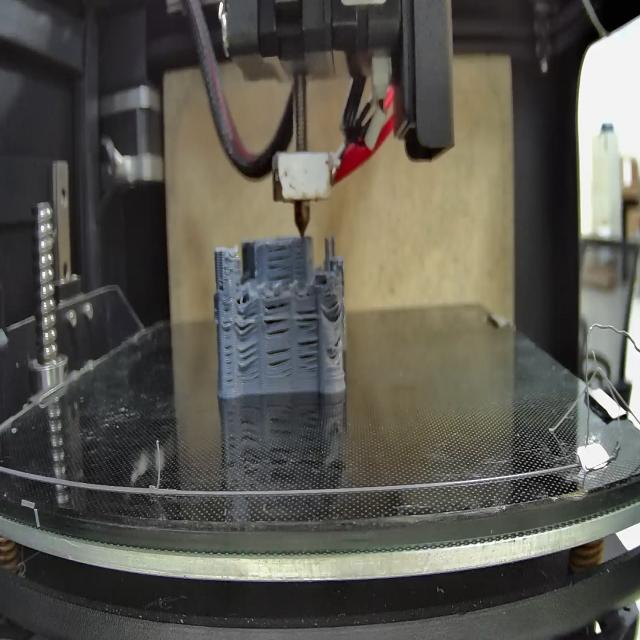cracks: (263, 301, 290, 338), (264, 246, 294, 278), (265, 342, 292, 376), (223, 305, 234, 382), (296, 338, 319, 368), (235, 310, 260, 335), (295, 305, 318, 330), (237, 343, 259, 369), (328, 294, 343, 322), (218, 277, 229, 298), (333, 334, 342, 353)
